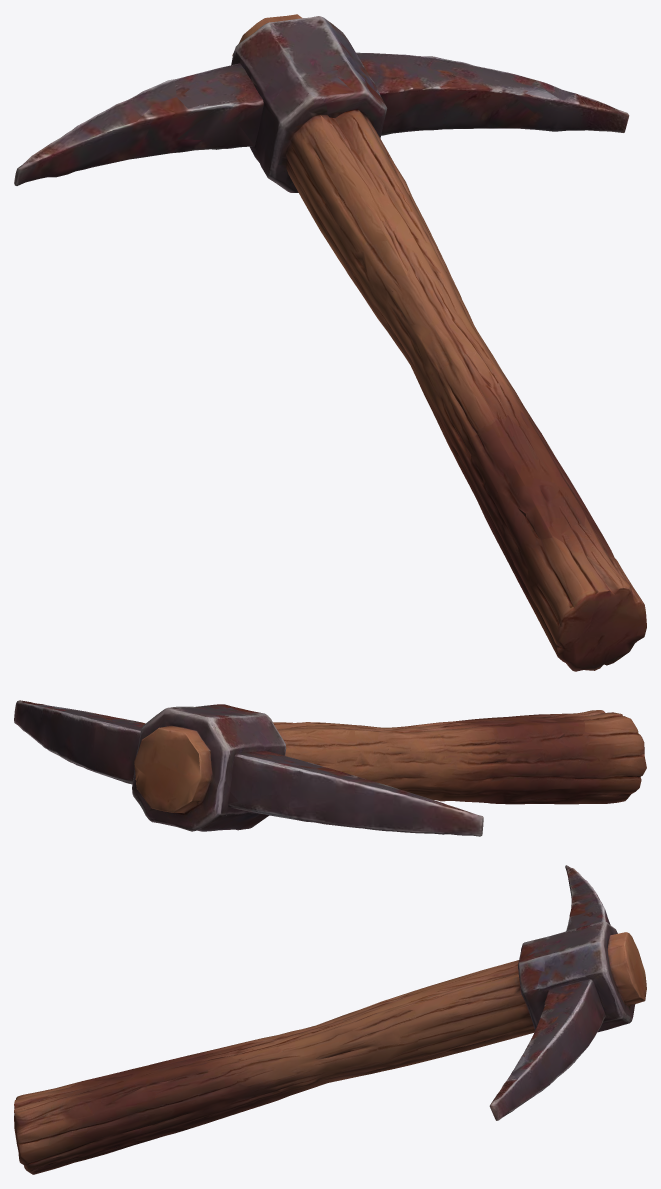
File: tool_pickaxe_stalnaya_idle.glb
3 views of the same model, one above another, from view 1: azimuth 30°, elevation 25°; view 2: azimuth 150°, elevation 25°; view 3: azimuth 270°, elevation 25° (orthographic). The views are drawn at different scales.
Parts seen in each view (by area): view 1: tripo_node_7373257d-cbd3-462a-828e-a0bf155fe37e; view 2: tripo_node_7373257d-cbd3-462a-828e-a0bf155fe37e; view 3: tripo_node_7373257d-cbd3-462a-828e-a0bf155fe37e.
Part boxes in pixels (x1,y1,x2,y2): tripo_node_7373257d-cbd3-462a-828e-a0bf155fe37e: [14, 14, 646, 671]; tripo_node_7373257d-cbd3-462a-828e-a0bf155fe37e: [14, 700, 646, 836]; tripo_node_7373257d-cbd3-462a-828e-a0bf155fe37e: [14, 865, 646, 1174].
Bounding box in the file's own units: 0.9917 × 0.6002 × 1.29.
1 material, 1 textured.
